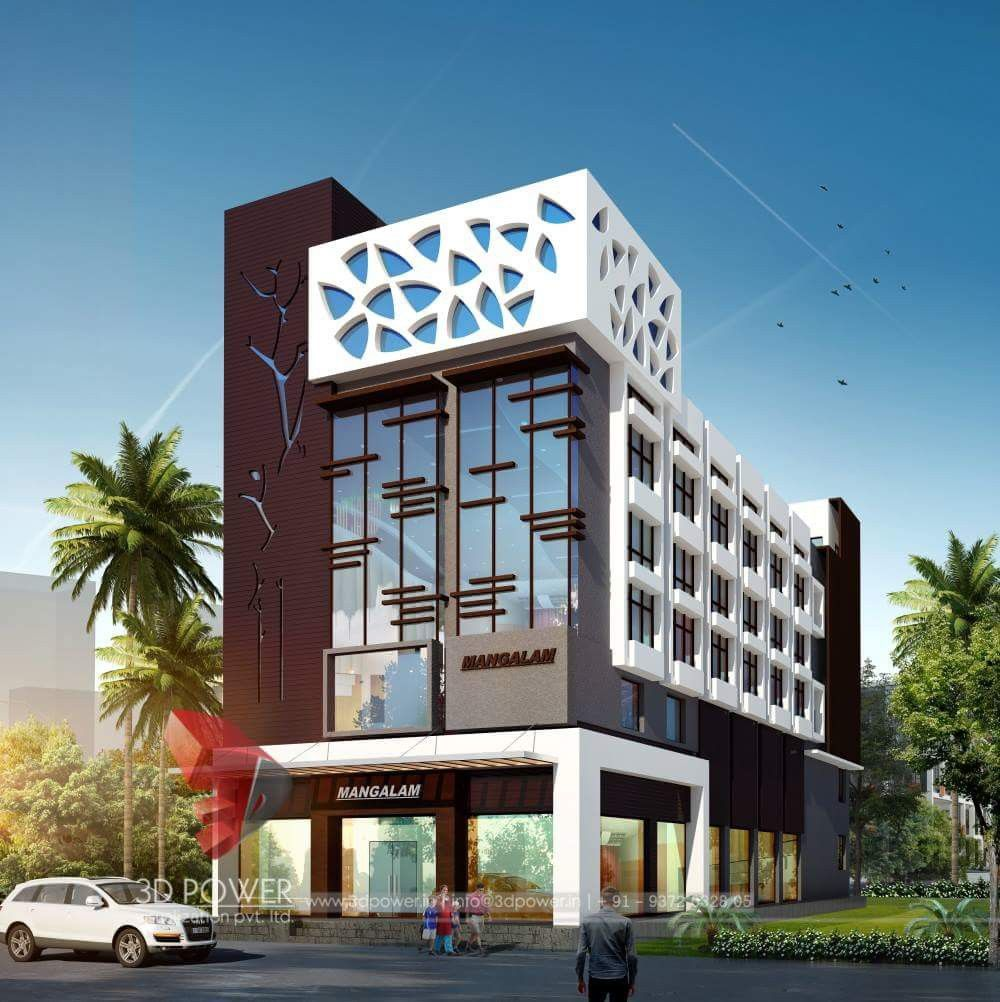Building House: (162, 170, 878, 924)
